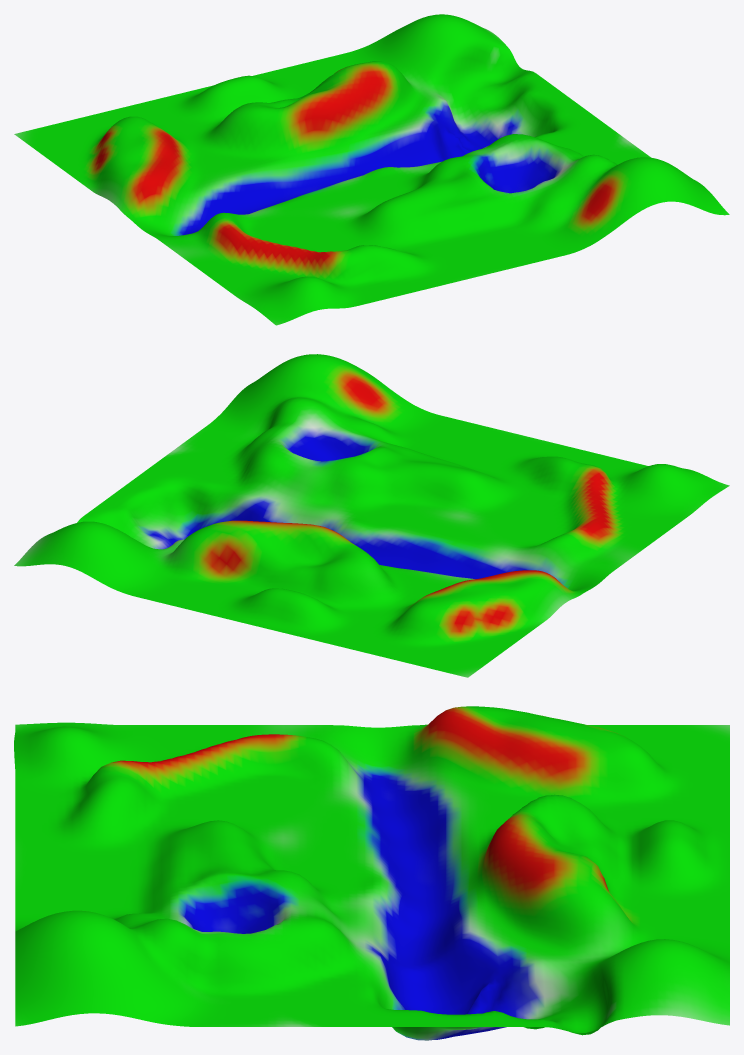
File: MintTagMapMadeByMintMan.fbx
3 views of the same model, one above another, from view 1: azimuth 30°, elevation 25°; view 2: azimuth 150°, elevation 25°; view 3: azimuth 270°, elevation 25° (orthographic). The views are drawn at different scales.
Visible parts, largest first — view 1: Plane; view 2: Plane; view 3: Plane.
Part boxes in pixels (bbox=[...]): Plane: bbox=[14, 14, 729, 325]; Plane: bbox=[14, 354, 729, 677]; Plane: bbox=[14, 706, 729, 1040].
Size of the model in its own units: 30400 by 6206 by 30462.
